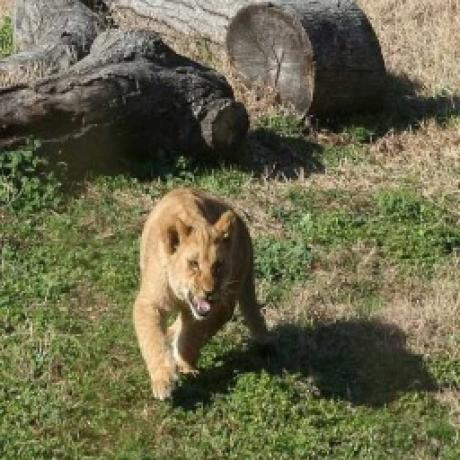Lion: (134, 186, 268, 401)
